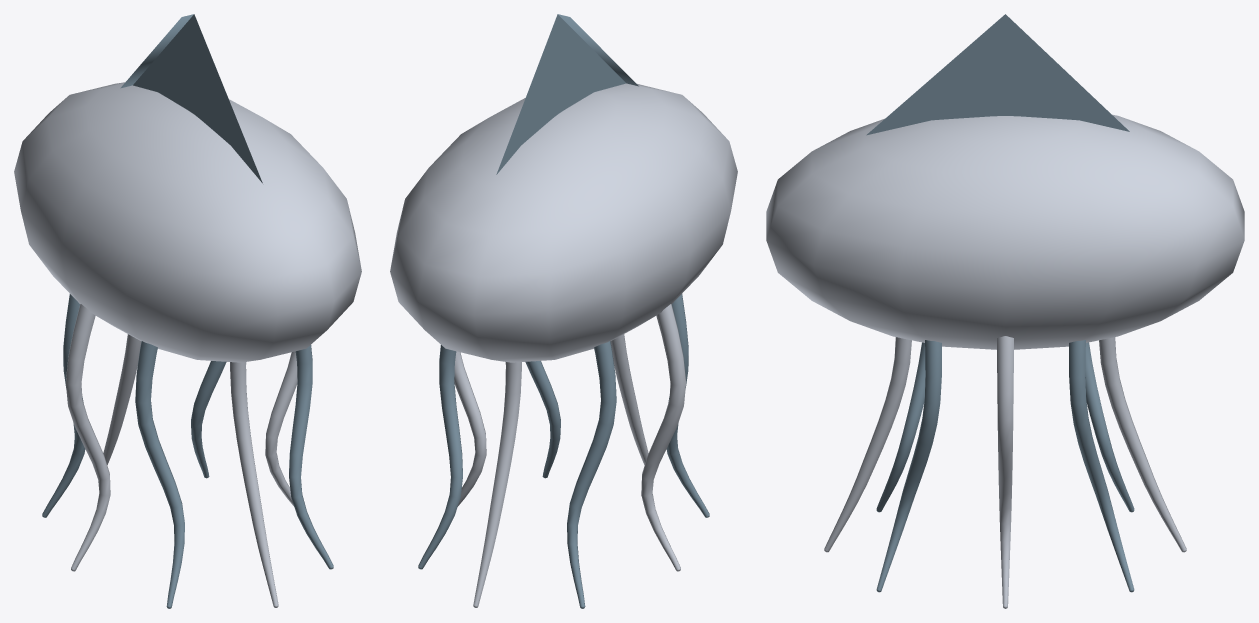
File: open-ocean-and-deep-sea-life-portuguese-man-o-war-6b94147a__5888.glb
3 views of the same model, side by side, from view 1: azimuth 30°, elevation 25°; view 2: azimuth 150°, elevation 25°; view 3: azimuth 270°, elevation 25° (orthographic).
Parts seen in each view (by area): view 1: portuguese-man-o-war; view 2: portuguese-man-o-war; view 3: portuguese-man-o-war.
Boxes of the visible parts, <box> form: portuguese-man-o-war: <box>14,14,361,608</box>; portuguese-man-o-war: <box>390,14,737,608</box>; portuguese-man-o-war: <box>766,14,1244,608</box>.
Size of the model in its own units: 0.4041 by 0.8016 by 0.65.
